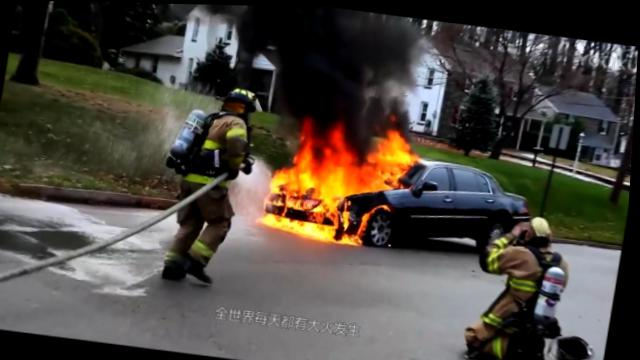fire: (263, 212, 339, 240), (291, 117, 319, 192), (370, 130, 413, 176), (307, 156, 351, 197), (325, 123, 356, 160), (346, 166, 384, 196), (273, 165, 298, 193), (321, 195, 343, 220), (382, 171, 402, 188), (342, 231, 367, 244), (359, 211, 370, 232), (341, 209, 352, 230), (287, 196, 305, 208), (271, 197, 285, 204)
